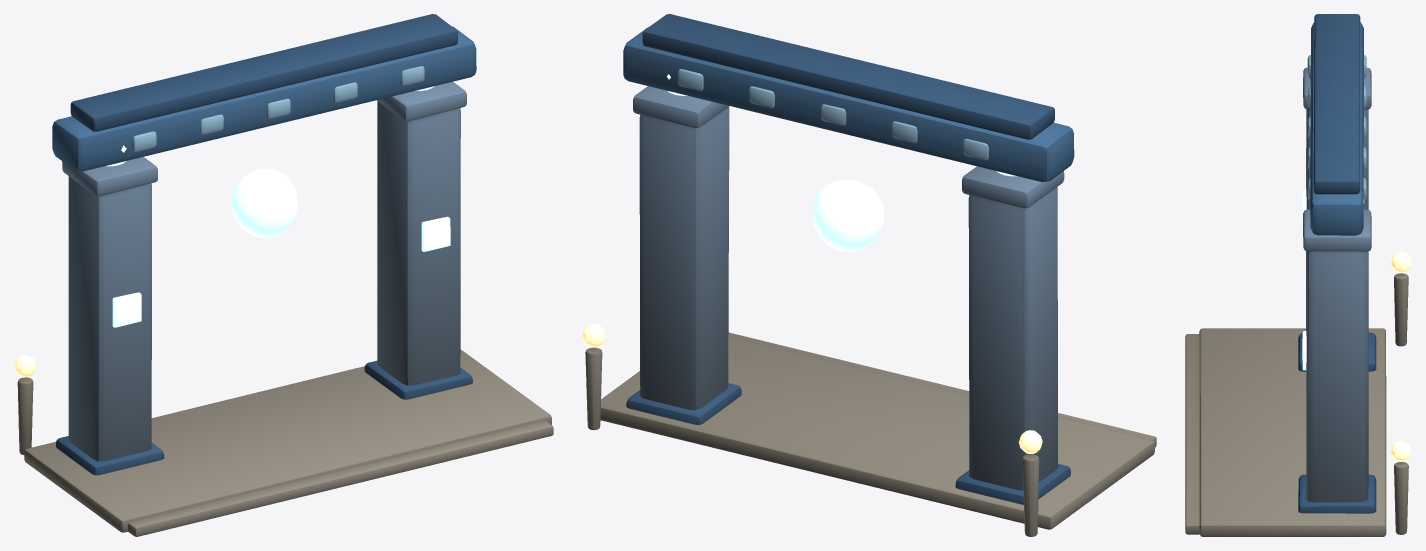
3 views of the same model, side by side, from view 1: azimuth 30°, elevation 25°; view 2: azimuth 150°, elevation 25°; view 3: azimuth 270°, elevation 25° (orthographic). The views are drawn at different scales.
Visible parts, largest first — view 1: gate_0198f73b; view 2: gate_0198f73b; view 3: gate_0198f73b.
Part boxes in pixels (bbox=[...]): gate_0198f73b: bbox=[14, 14, 553, 536]; gate_0198f73b: bbox=[582, 14, 1156, 536]; gate_0198f73b: bbox=[1185, 14, 1411, 536].
Bounding box in the file's own units: 5.29 × 4.26 × 2.55.
